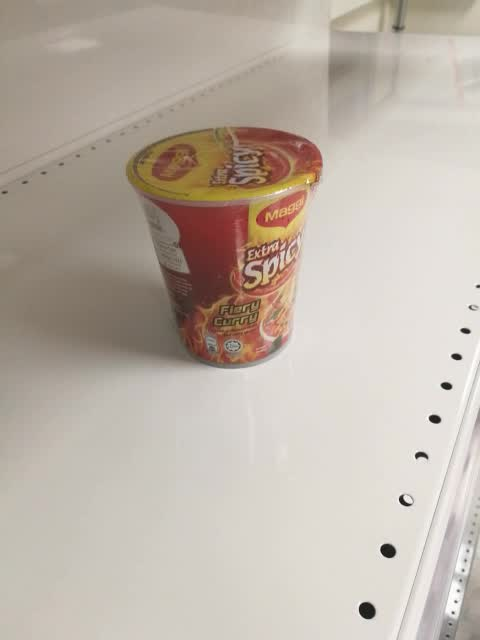maggi: (125, 127, 322, 372)
